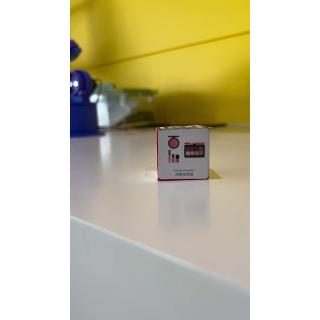Expired_Cosmetic: (158, 131, 210, 181)
